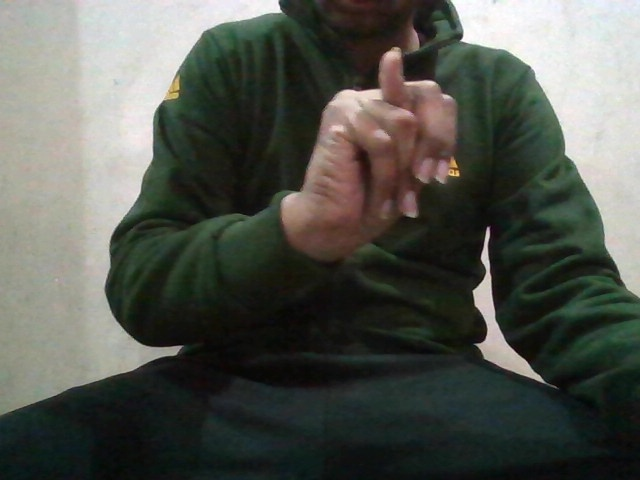N: (285, 45, 465, 258)
